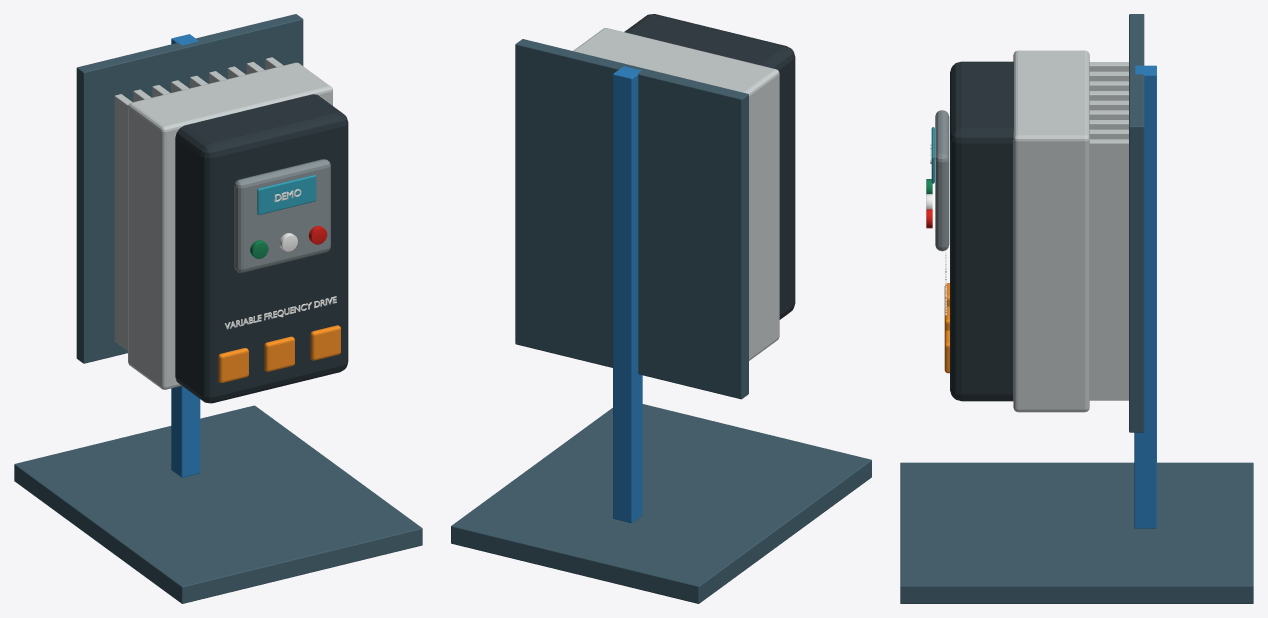
File: vfd_diagnostic_panel.glb
The picture shows the model from 3 angles, left to right: view 1: azimuth 30°, elevation 25°; view 2: azimuth 150°, elevation 25°; view 3: azimuth 270°, elevation 25°; orthographic projection. The views are drawn at different scales.
Visible parts, largest first — view 1: STAND_base, VFD_BODY, STAND_backboard, HEATSINK_BLOCK, KEYPAD, HEATSINK_FIN_-0.36, STAND_mast, DISPLAY, POWER_TERMINAL_0, POWER_TERMINAL_0.22, POWER_TERMINAL_-0.22, VFD_LABEL; view 2: STAND_backboard, STAND_base, HEATSINK_BLOCK, STAND_mast, VFD_BODY; view 3: STAND_base, HEATSINK_BLOCK, VFD_BODY, HEATSINK_FIN_0.36, STAND_mast, STAND_backboard, KEYPAD.
Part boxes in pixels (x1,y1,x2,y2): STAND_base: (14, 405, 422, 603); VFD_BODY: (175, 94, 348, 403); STAND_backboard: (76, 14, 303, 363); HEATSINK_BLOCK: (128, 62, 332, 389); KEYPAD: (234, 159, 330, 272); HEATSINK_FIN_-0.36: (114, 94, 132, 350); STAND_mast: (171, 34, 200, 477); DISPLAY: (257, 175, 316, 214); POWER_TERMINAL_0: (264, 336, 294, 371); POWER_TERMINAL_0.22: (310, 325, 340, 360); POWER_TERMINAL_-0.22: (218, 348, 248, 382); VFD_LABEL: (224, 296, 336, 329); STAND_backboard: (515, 39, 748, 399); STAND_base: (451, 404, 871, 603); HEATSINK_BLOCK: (573, 28, 779, 360); STAND_mast: (613, 66, 642, 523); VFD_BODY: (624, 14, 795, 319); STAND_base: (900, 462, 1253, 603); HEATSINK_BLOCK: (1013, 50, 1089, 412); VFD_BODY: (950, 61, 1013, 401); HEATSINK_FIN_0.36: (1089, 139, 1128, 400); STAND_mast: (1134, 65, 1156, 528); STAND_backboard: (1129, 14, 1144, 432); KEYPAD: (935, 110, 949, 251).
Bounding box in the file's own units: 1.15 × 2.05 × 1.39.
